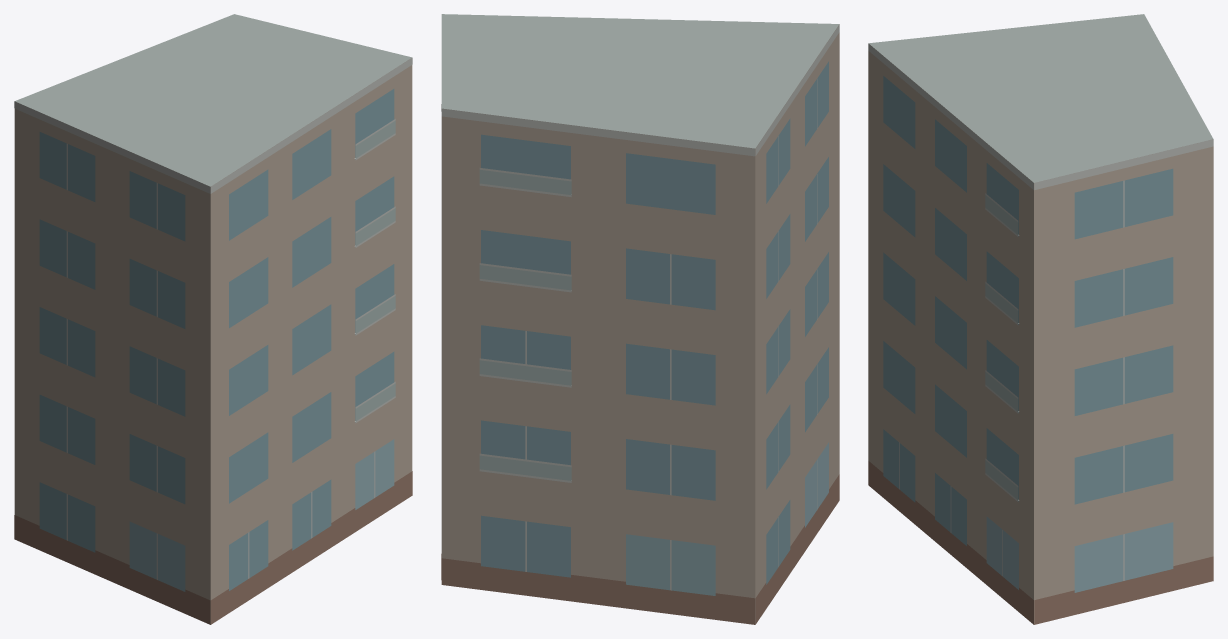
Rendered from survey-upis-33026671.glb.
3 views of the same model, side by side, from view 1: azimuth 30°, elevation 25°; view 2: azimuth 150°, elevation 25°; view 3: azimuth 270°, elevation 25° (orthographic). The views are drawn at different scales.
Visible parts, largest first — view 1: survey-upis-33026671.tmp; view 2: survey-upis-33026671.tmp; view 3: survey-upis-33026671.tmp.
Part boxes in pixels (x1=…): survey-upis-33026671.tmp: x1=14, y1=14, x2=412, y2=624; survey-upis-33026671.tmp: x1=441, y1=14, x2=839, y2=624; survey-upis-33026671.tmp: x1=868, y1=14, x2=1213, y2=624.
Bounding box in the file's own units: 12.06 × 14.7 × 10.42.
